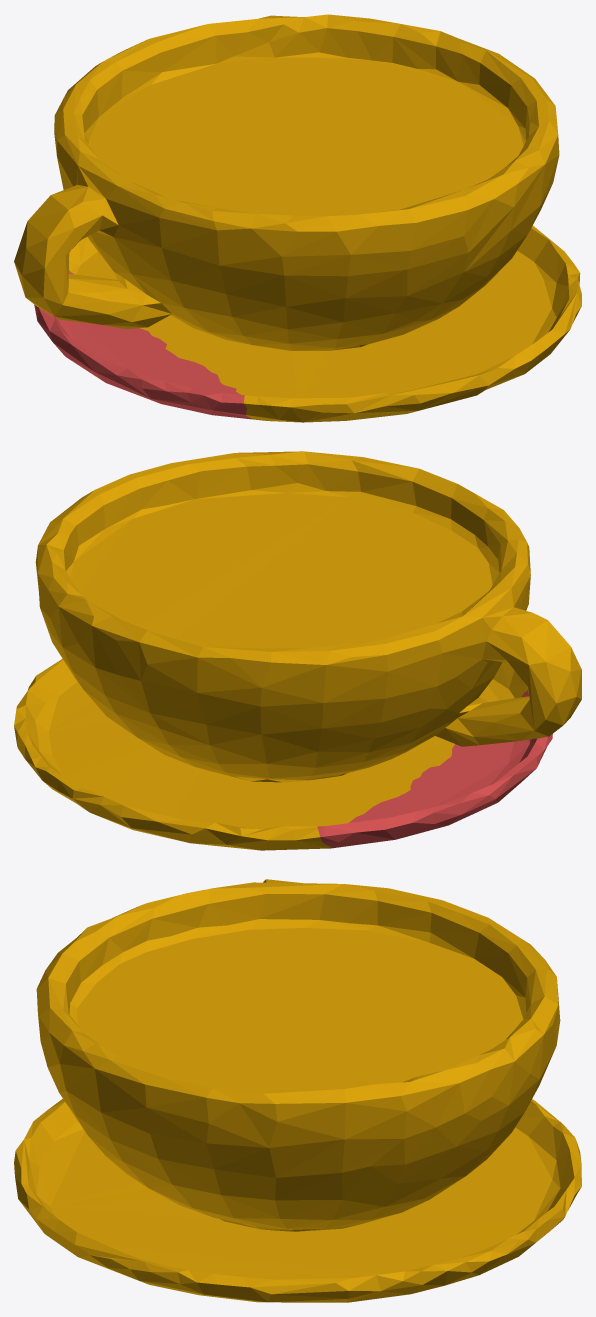
Rendered from fractured_10_2pcs.glb.
3 renders of one model, top to bottom at view 1: azimuth 30°, elevation 25°; view 2: azimuth 150°, elevation 25°; view 3: azimuth 270°, elevation 25°, orthographic. The views are drawn at different scales.
Parts seen in each view (by area): view 1: piece_0.obj, piece_1.obj; view 2: piece_0.obj, piece_1.obj; view 3: piece_0.obj.
Boxes of the visible parts, x1,y1,x2,y2 form: piece_0.obj: (14, 14, 581, 422); piece_1.obj: (34, 270, 251, 419); piece_0.obj: (14, 451, 581, 850); piece_1.obj: (317, 690, 552, 848); piece_0.obj: (14, 879, 581, 1302).
Bounding box in the file's own units: 1 × 0.3641 × 0.8955.
